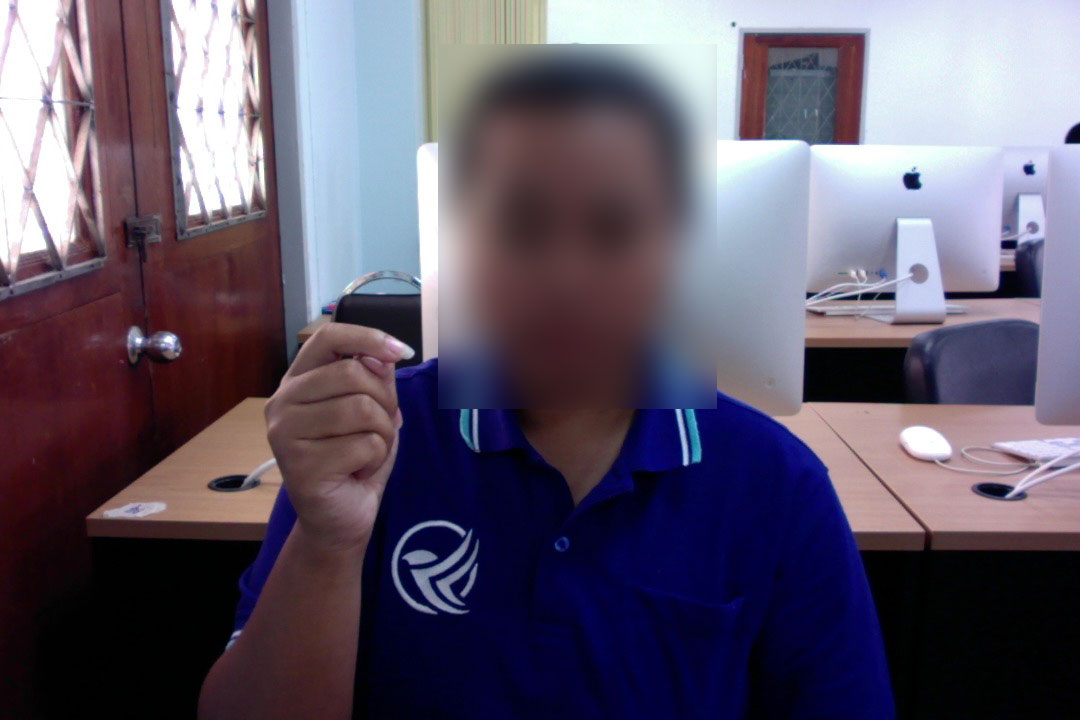tor: (252, 306, 424, 554)
